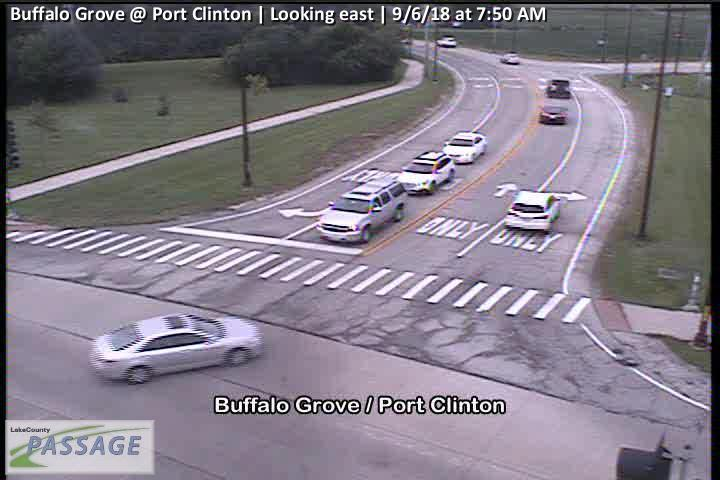SUV: (315, 178, 409, 244)
Sedan: (88, 312, 262, 383), (397, 152, 456, 196), (504, 190, 561, 233), (442, 132, 486, 163), (539, 104, 569, 124), (546, 78, 572, 98), (500, 52, 520, 64), (436, 36, 456, 46)
